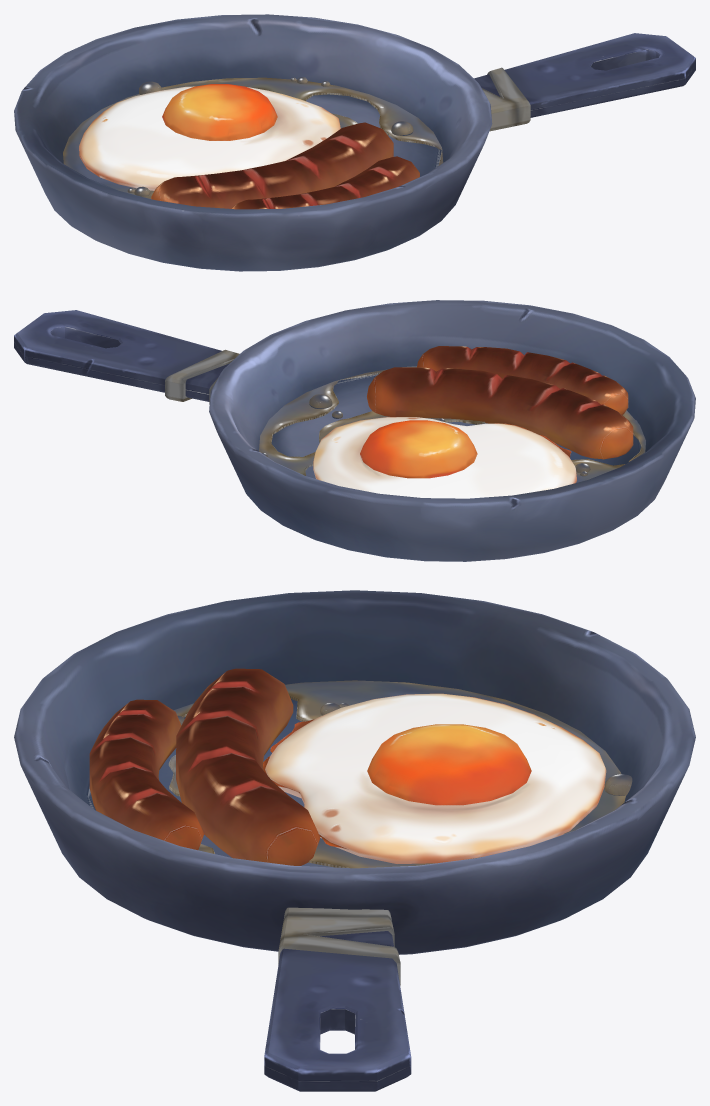
Rendered from egg_and_sausage.glb.
The picture shows the model from 3 angles, top to bottom: view 1: azimuth 30°, elevation 25°; view 2: azimuth 150°, elevation 25°; view 3: azimuth 270°, elevation 25°; orthographic projection. The views are drawn at different scales.
Parts seen in each view (by area): view 1: Plane.008, Plane.005, Plane.002, Plane.004, Plane.007, Plane.003, Plane, Plane.009; view 2: Plane.008, Plane.004, Plane.005, Plane.002, Plane, Plane.007, Plane.003, Plane.009; view 3: Plane.008, Plane.005, Plane.004, Plane.002, Plane, Plane.007, Plane.003, Plane.009.
Part boxes in pixels (box(x1,y1,x2,y2)): Plane.008: box(14, 14, 492, 271); Plane.005: box(79, 86, 340, 190); Plane.002: box(474, 33, 695, 117); Plane.004: box(151, 122, 393, 208); Plane.007: box(162, 84, 277, 140); Plane.003: box(63, 77, 443, 198); Plane: box(231, 156, 419, 209); Plane.009: box(482, 67, 530, 131); Plane.008: box(209, 300, 695, 561); Plane.004: box(367, 367, 633, 459); Plane.005: box(313, 417, 576, 498); Plane.002: box(14, 310, 229, 401); Plane: box(417, 346, 628, 414); Plane.007: box(360, 420, 477, 478); Plane.003: box(259, 366, 645, 482); Plane.009: box(165, 349, 239, 404); Plane.008: box(14, 590, 695, 954); Plane.005: box(265, 693, 606, 863); Plane.004: box(176, 668, 320, 865); Plane.002: box(264, 931, 411, 1091); Plane: box(89, 699, 203, 850); Plane.007: box(367, 724, 531, 805); Plane.003: box(168, 680, 625, 868); Plane.009: box(278, 907, 400, 985).
Size of the model in its own units: 2.99 by 0.3217 by 1.97.
Materials: 1 (1 with a texture image).
